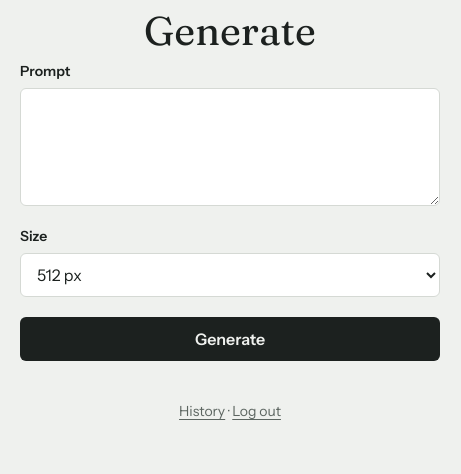
Test: submitting › says when to try again when the queue is full
Step 1. Type "a red fox in fresh snow" into the text box labelled "Prompt" → [230, 147], box [20,88,440,206]
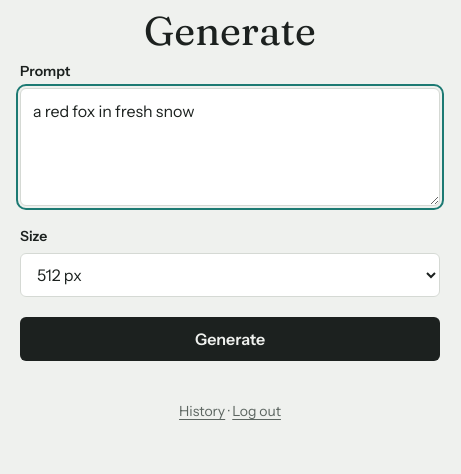
Step 2. Click the button "Generate" → [230, 339], box [20,317,440,361]
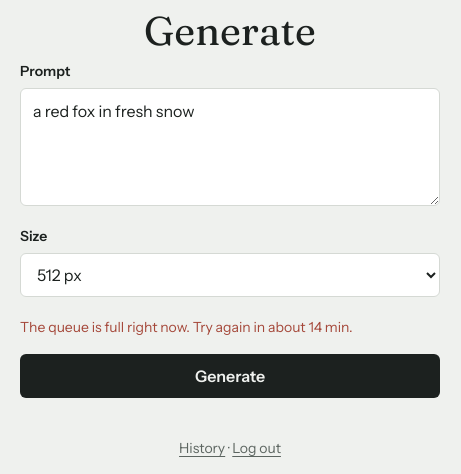
Now the message reads "The queue is full right now. Try again in about 14 min.", box [20,318,352,336]
